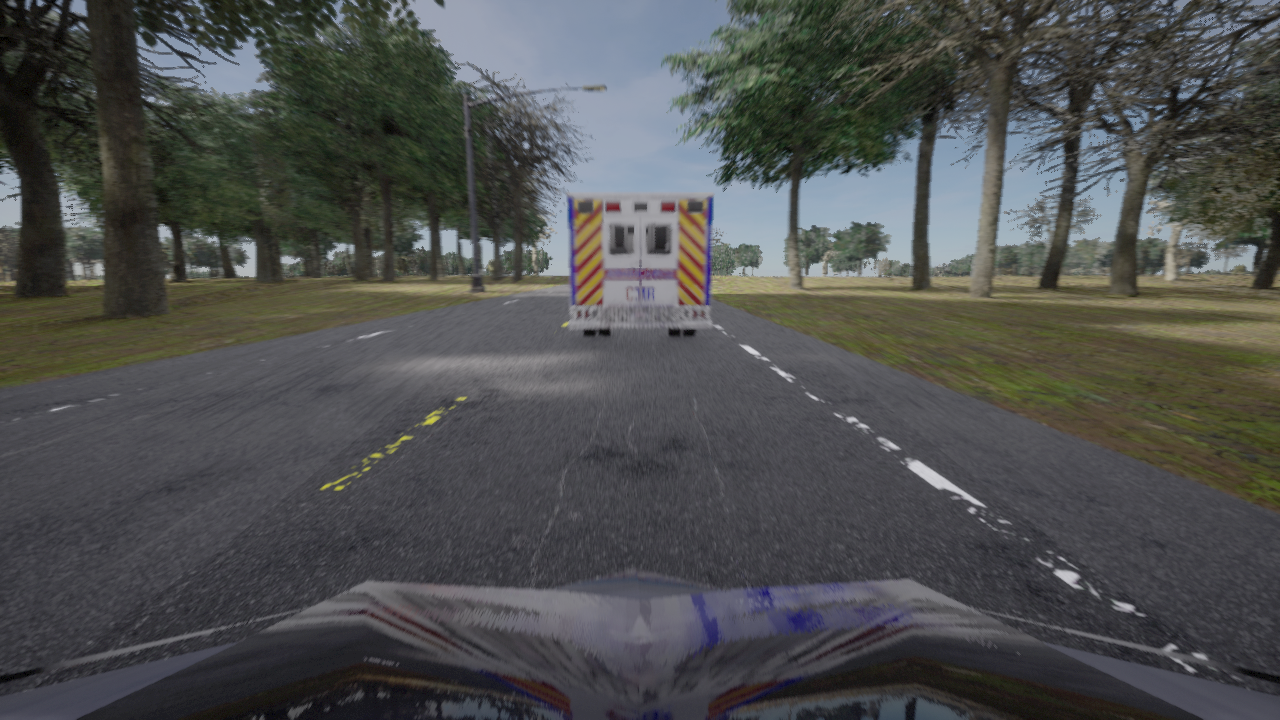cyclist: (0, 569, 1279, 719), (567, 193, 712, 336)
